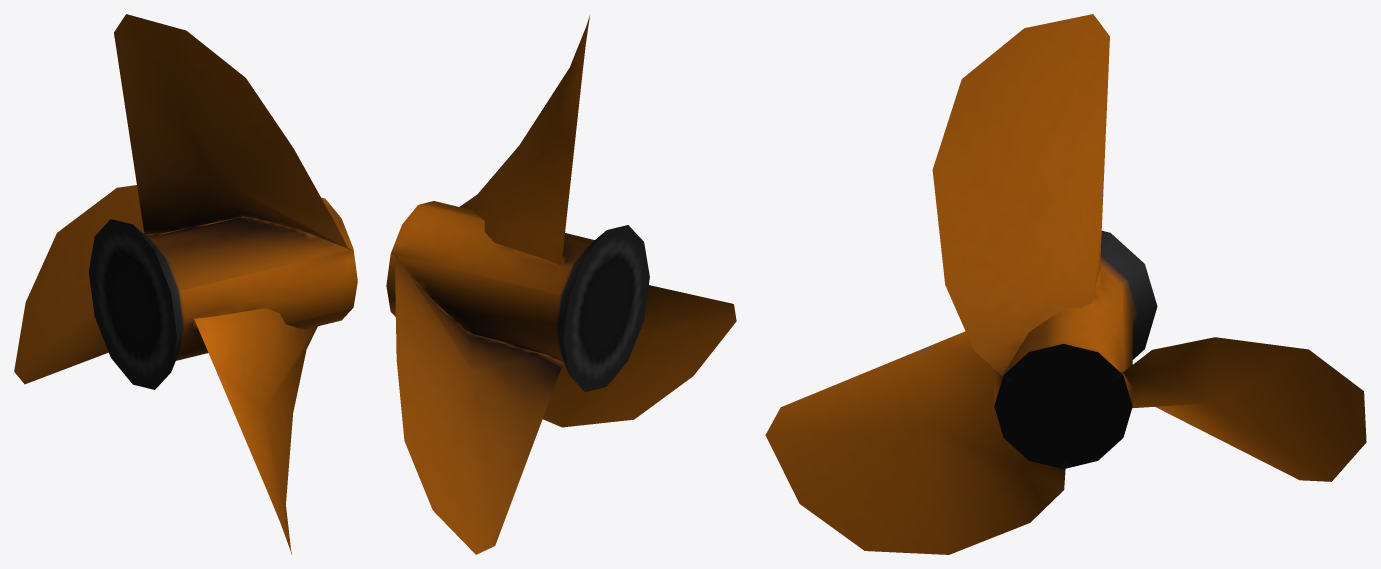
The model's file is propeller.dae.
3 renders of one model, left to right at view 1: azimuth 30°, elevation 25°; view 2: azimuth 150°, elevation 25°; view 3: azimuth 270°, elevation 25°, orthographic. The views are drawn at different scales.
Parts seen in each view (by area): view 1: Prop_Left; view 2: Prop_Left; view 3: Prop_Left.
Part boxes in pixels (box(x1,y1,x2,y2)): Prop_Left: box(14, 14, 357, 554); Prop_Left: box(386, 15, 736, 554); Prop_Left: box(765, 14, 1366, 554).
Size of the model in its own units: 0.1666 by 0.4234 by 0.3941.
1 material, 1 textured.
